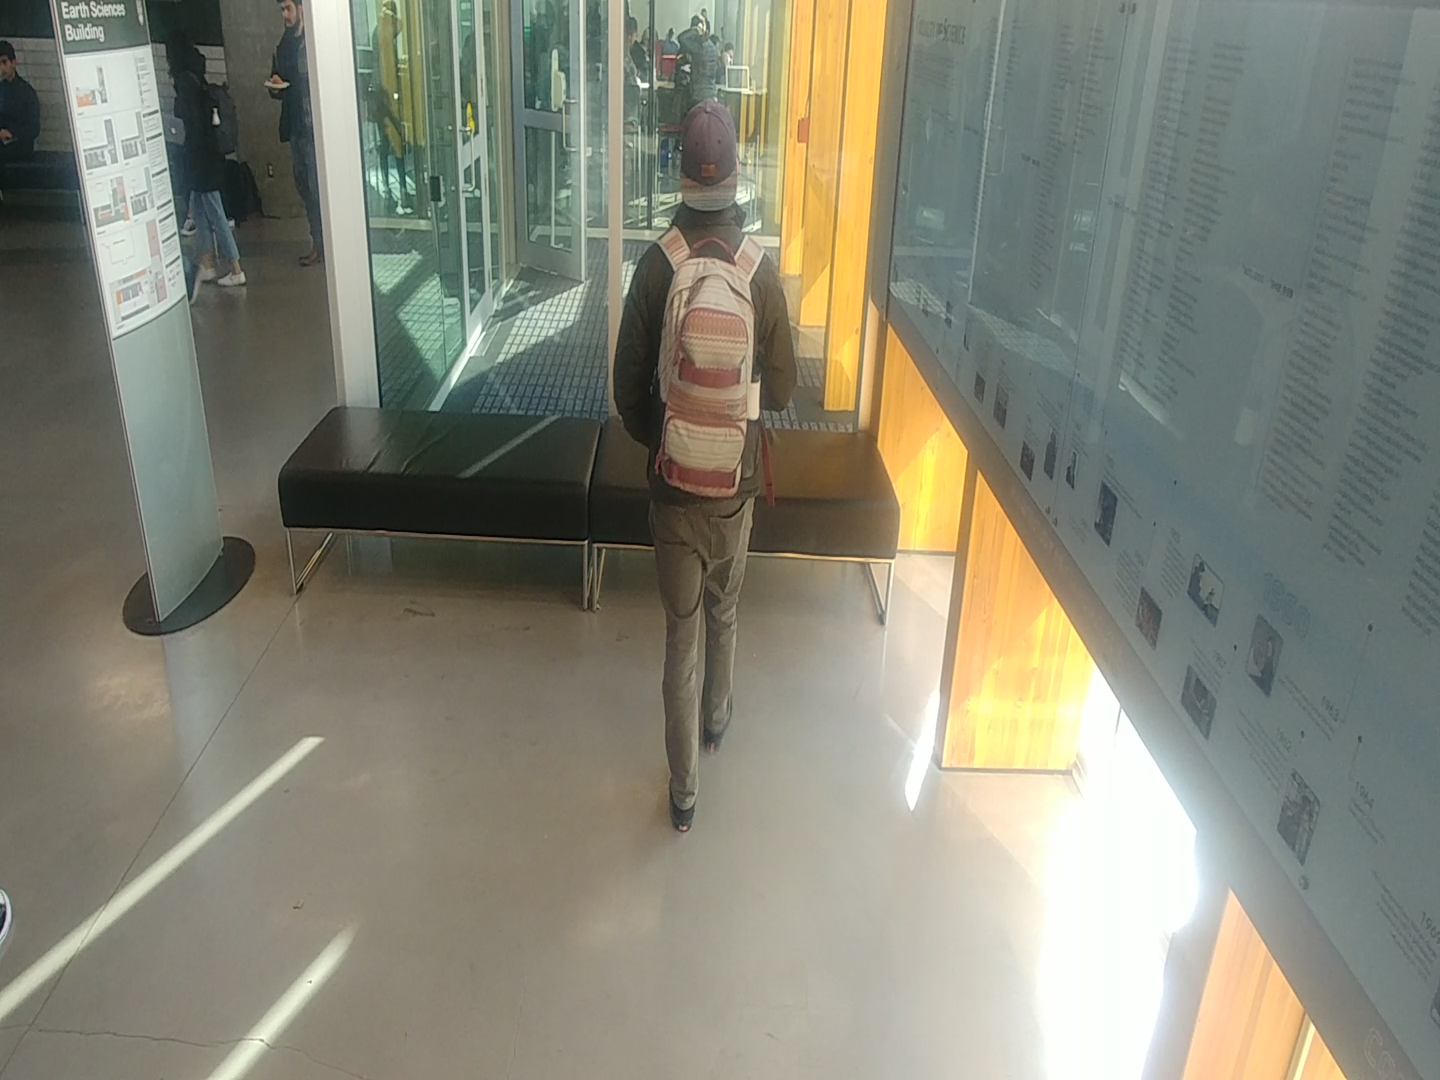face: (655, 94, 753, 236), (153, 21, 225, 86), (677, 10, 718, 48), (0, 36, 27, 85), (275, 0, 307, 41)
human: (600, 78, 777, 841), (150, 23, 255, 294), (265, 0, 323, 283), (666, 9, 736, 114), (0, 38, 43, 161)
